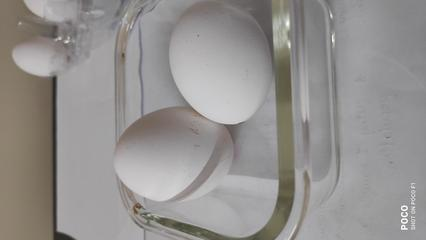eggs: (172, 6, 285, 130), (118, 100, 239, 201)
